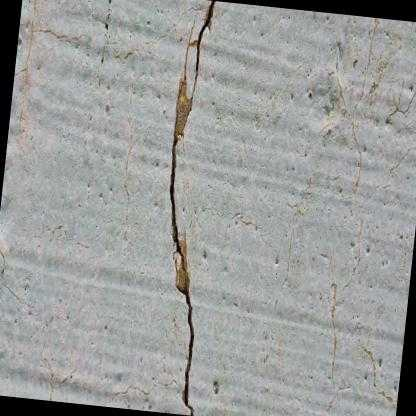crack: (166, 0, 217, 416)
